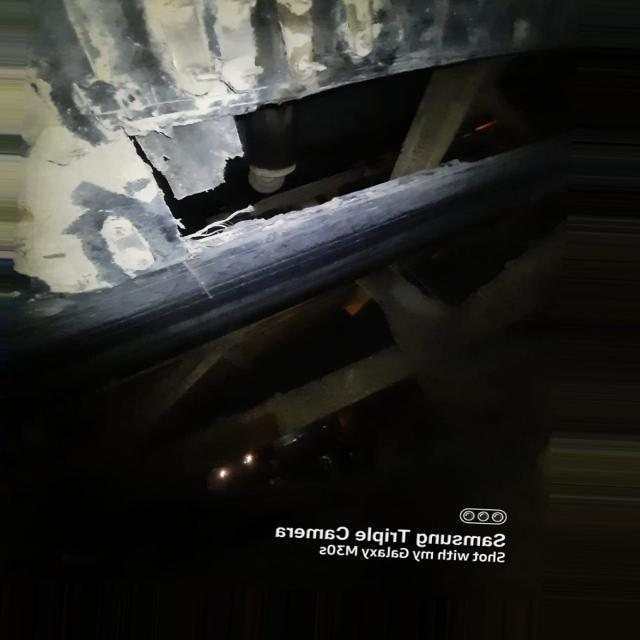Hole: (128, 41, 596, 245)
